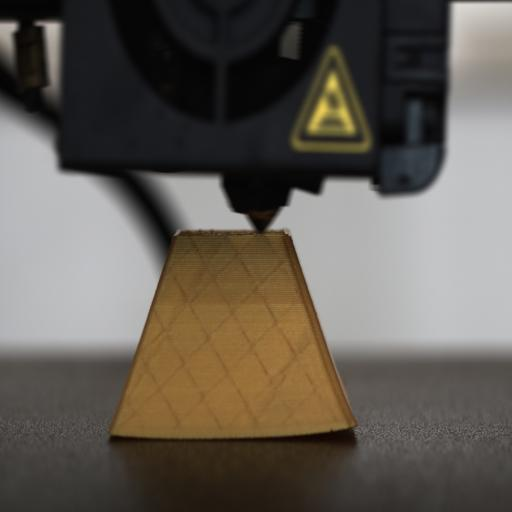warp: (299, 408, 368, 450)
